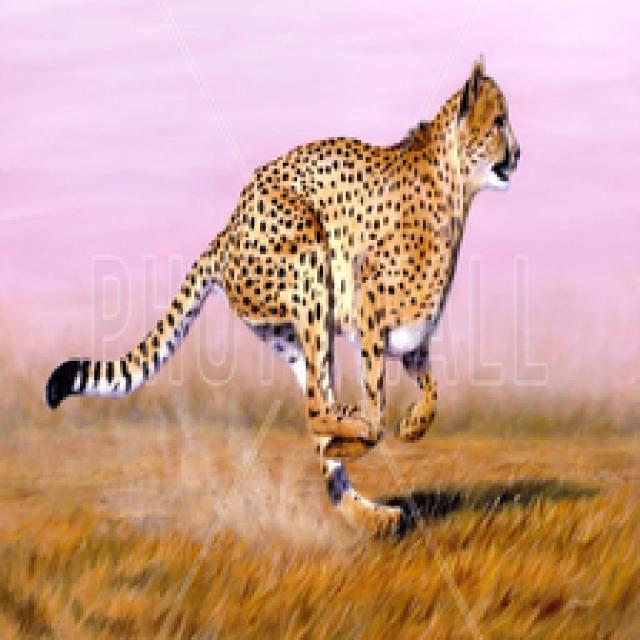cheetah: (31, 58, 544, 556)
